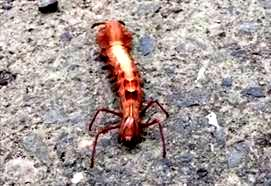Lobster Moth: (87, 15, 171, 166)
